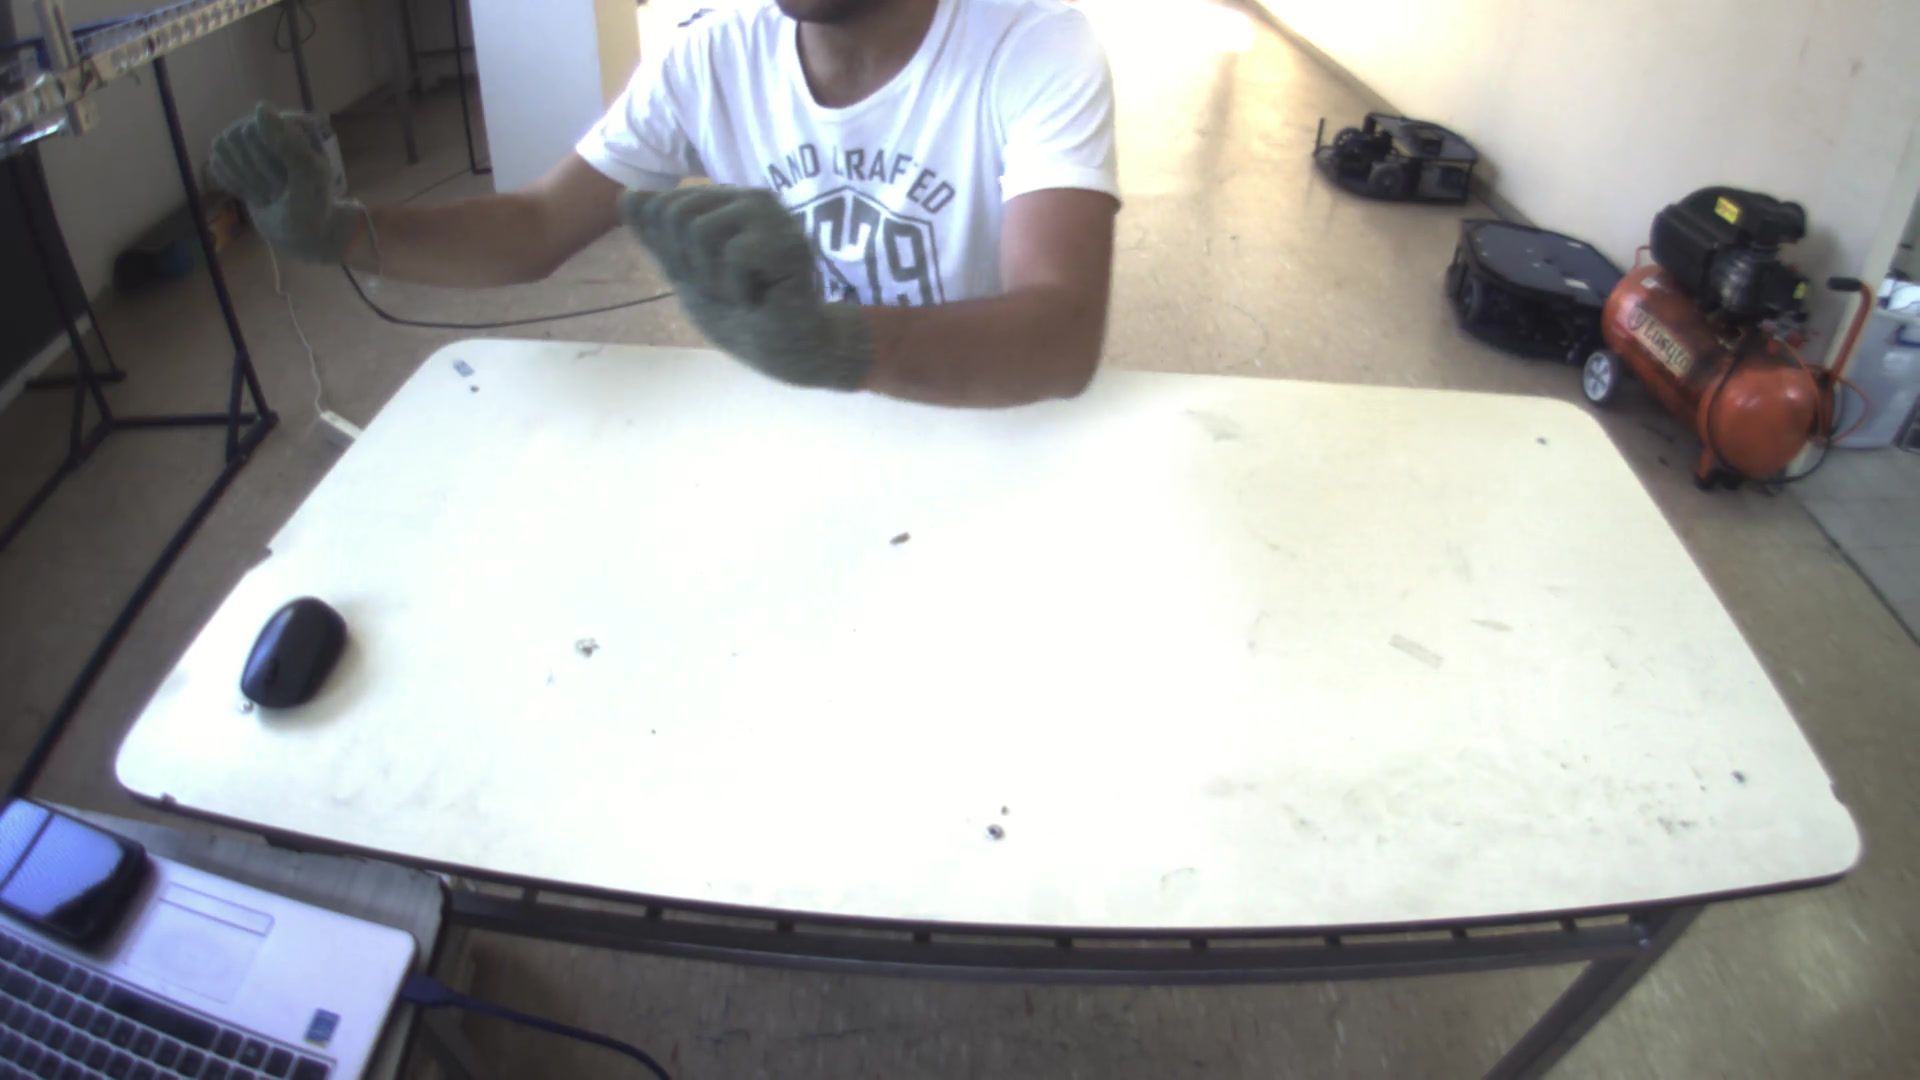hand: (611, 160, 857, 385), (204, 88, 361, 266)
